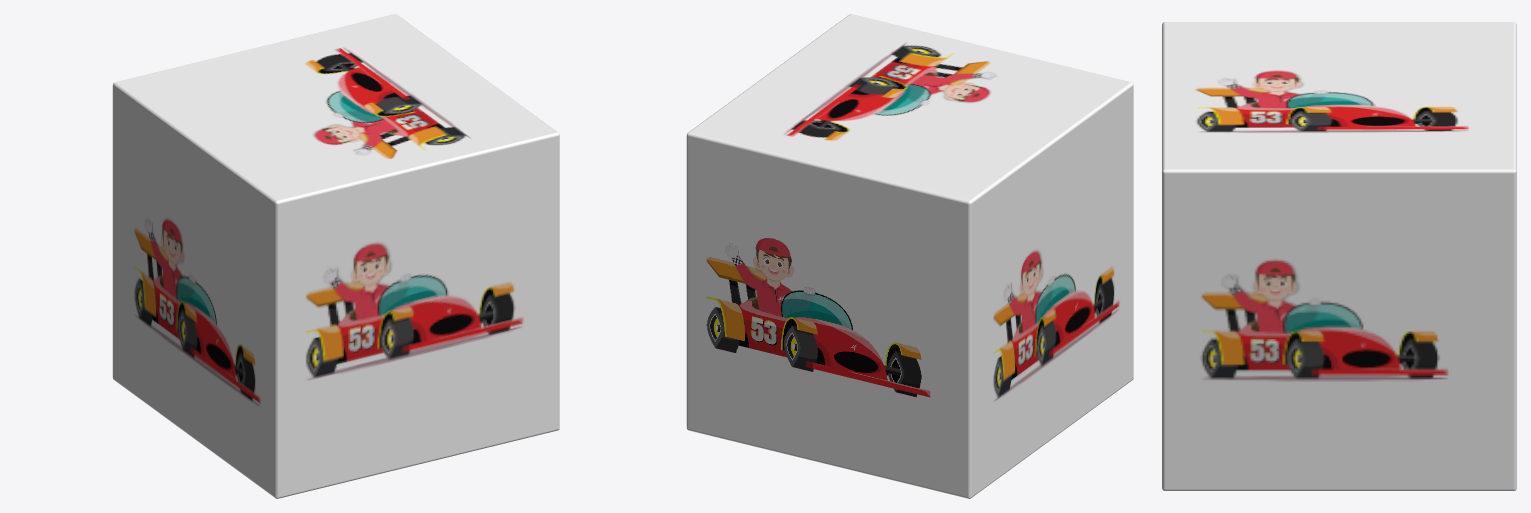
File: tatata.fbx
3 views of the same model, side by side, from view 1: azimuth 30°, elevation 25°; view 2: azimuth 150°, elevation 25°; view 3: azimuth 270°, elevation 25° (orthographic). The views are drawn at different scales.
Parts seen in each view (by area): view 1: node_id32; view 2: node_id32, root; view 3: node_id32.
Part boxes in pixels (box(x1,y1,x2,y2)): node_id32: box(112, 14, 559, 498); node_id32: box(686, 14, 1133, 498); root: box(706, 238, 930, 397); node_id32: box(1162, 22, 1516, 490).
Size of the model in its own units: 0.862 by 0.512 by 0.512.
2 materials, 2 textured.
